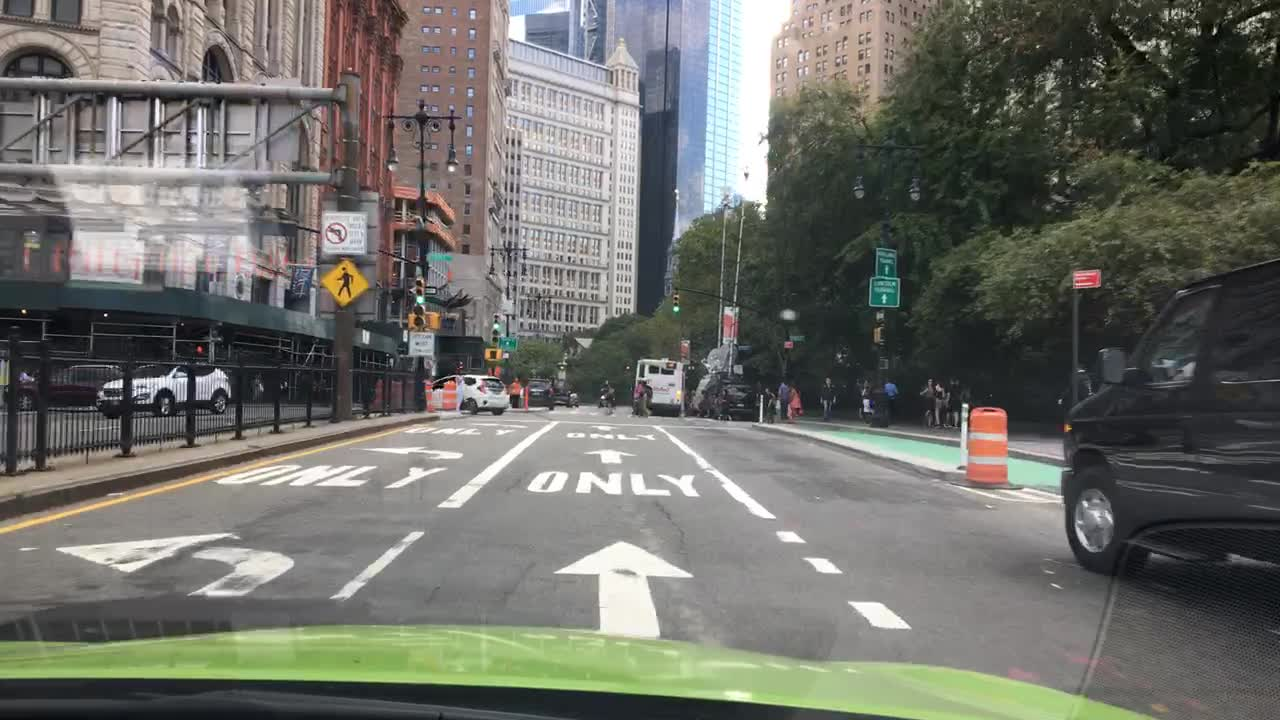bike: (600, 394, 613, 417)
bus: (635, 356, 681, 420)
car: (1055, 257, 1276, 576), (96, 366, 237, 419), (4, 364, 118, 413), (422, 371, 506, 416), (696, 371, 743, 411), (716, 384, 757, 421), (521, 376, 555, 414), (686, 376, 706, 416), (555, 378, 578, 409)
person: (816, 376, 837, 421), (934, 383, 952, 430), (948, 380, 964, 431), (884, 381, 900, 424), (855, 381, 874, 415), (776, 381, 793, 417), (918, 376, 930, 426), (509, 375, 524, 408), (640, 381, 653, 419), (762, 388, 776, 421), (631, 378, 643, 416)
rider: (597, 381, 613, 406)
traffic light: (410, 277, 426, 331), (425, 311, 446, 331), (491, 308, 501, 346), (870, 326, 884, 346), (484, 346, 501, 361), (671, 288, 680, 316)
traffic sign: (320, 257, 371, 306), (316, 208, 366, 257), (863, 273, 900, 310), (872, 243, 898, 281), (403, 331, 436, 358), (1070, 267, 1100, 289), (500, 334, 517, 351), (425, 252, 452, 262), (409, 285, 436, 295), (792, 331, 806, 344), (880, 358, 890, 369)
